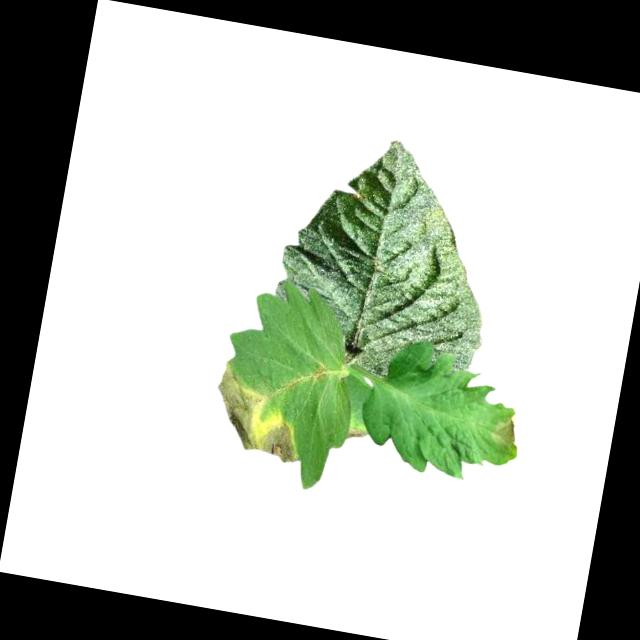Late_blight: (205, 359, 313, 465), (488, 409, 522, 452), (343, 427, 366, 440)
healthy: (263, 121, 514, 392)
